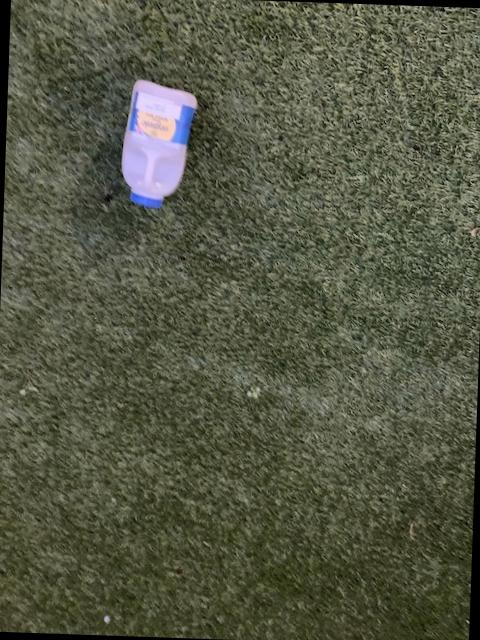plastic: (124, 82, 198, 208)
